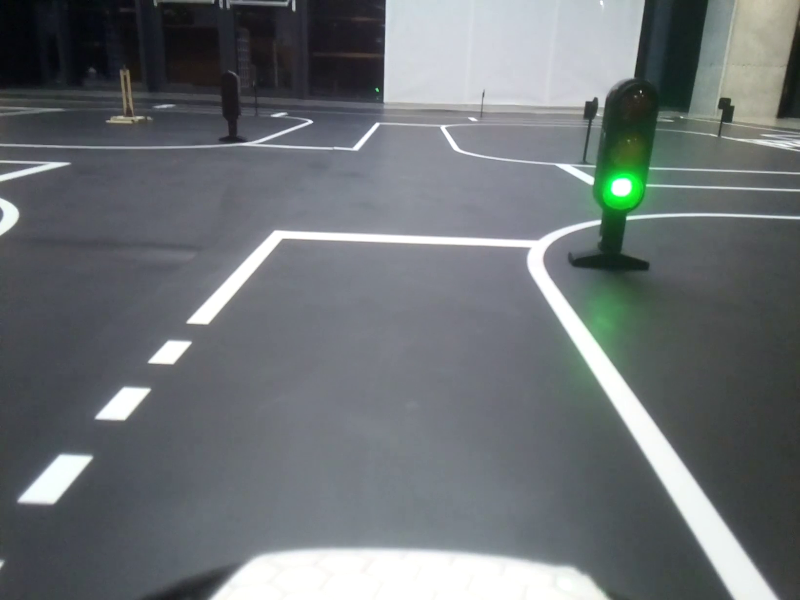traffic_green: (591, 81, 652, 210)
